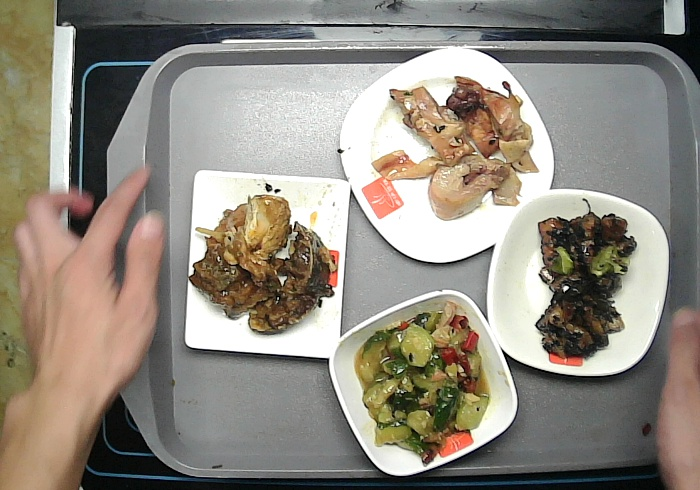SHKJ-Bai_Se_Cai_Die: (487, 189, 669, 380)
SHKJ-Bai_Se_Si_Fang_Cai_Die: (337, 47, 556, 264)
SHKJ-Bai_Se_Xiao_Fang_Die: (327, 290, 519, 476)
SHKJ-Si_Fang_Min: (181, 168, 351, 363)
